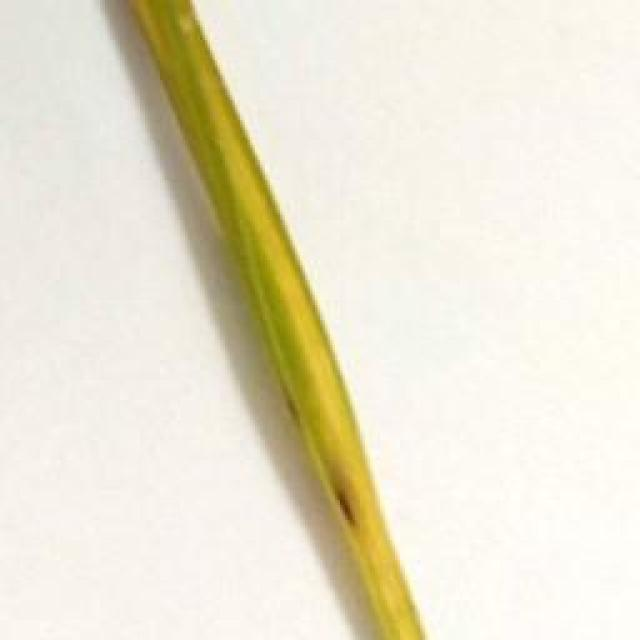Bacterial_Blight: (214, 103, 456, 640)
Brown_Spot: (329, 479, 369, 545)
